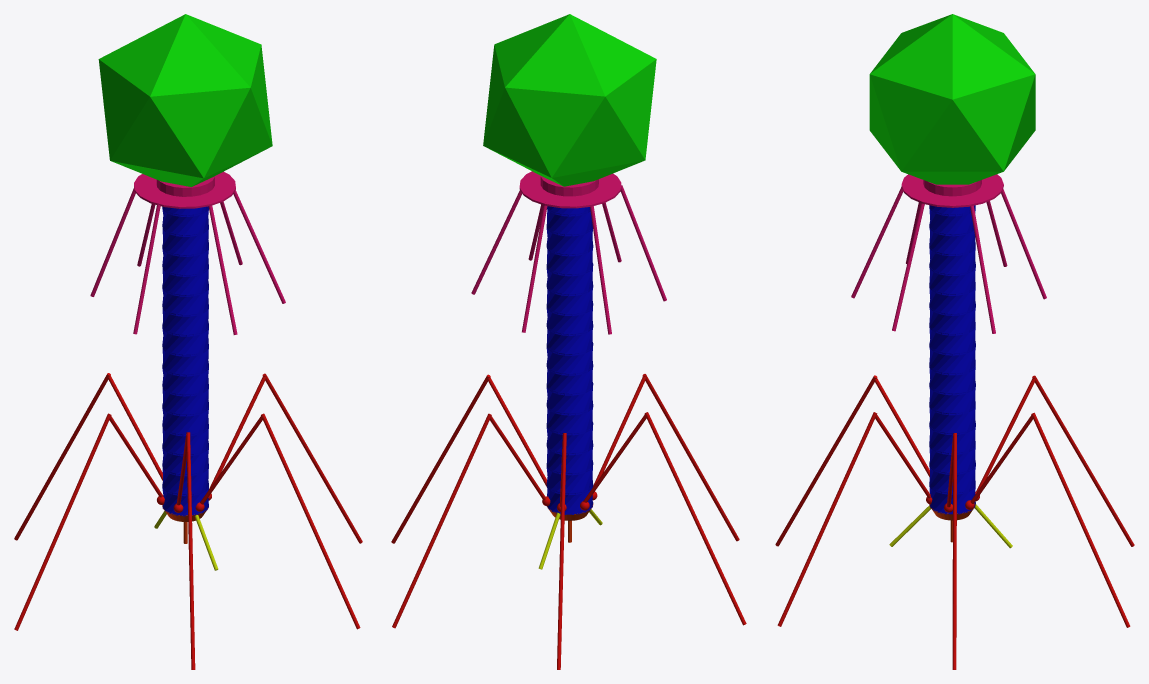
File: myoviridae.obj
3 views of the same model, side by side, from view 1: azimuth 30°, elevation 25°; view 2: azimuth 150°, elevation 25°; view 3: azimuth 270°, elevation 25° (orthographic).
Visible parts, largest first — view 1: Icosphere_Icosphere.002, Cylinder_Cylinder.004, Cylinder.011_Cylinder.017, Cylinder.023_Cylinder.030; view 2: Icosphere_Icosphere.002, Cylinder_Cylinder.004, Cylinder.011_Cylinder.017, Cylinder.023_Cylinder.030; view 3: Icosphere_Icosphere.002, Cylinder_Cylinder.004, Cylinder.011_Cylinder.017, Cylinder.023_Cylinder.030.
Boxes of the visible parts, bbox=[...] form: Icosphere_Icosphere.002: bbox=[98, 14, 272, 186]; Cylinder_Cylinder.004: bbox=[162, 206, 208, 516]; Cylinder.011_Cylinder.017: bbox=[14, 373, 362, 669]; Cylinder.023_Cylinder.030: bbox=[90, 171, 285, 334]; Icosphere_Icosphere.002: bbox=[483, 14, 656, 186]; Cylinder_Cylinder.004: bbox=[546, 206, 593, 514]; Cylinder.011_Cylinder.017: bbox=[391, 374, 746, 669]; Cylinder.023_Cylinder.030: bbox=[471, 171, 666, 334]; Icosphere_Icosphere.002: bbox=[869, 14, 1035, 184]; Cylinder_Cylinder.004: bbox=[929, 205, 975, 514]; Cylinder.011_Cylinder.017: bbox=[775, 375, 1134, 669]; Cylinder.023_Cylinder.030: bbox=[851, 174, 1046, 333].
Bounding box in the file's own units: 4.15 × 6.46 × 3.68.
